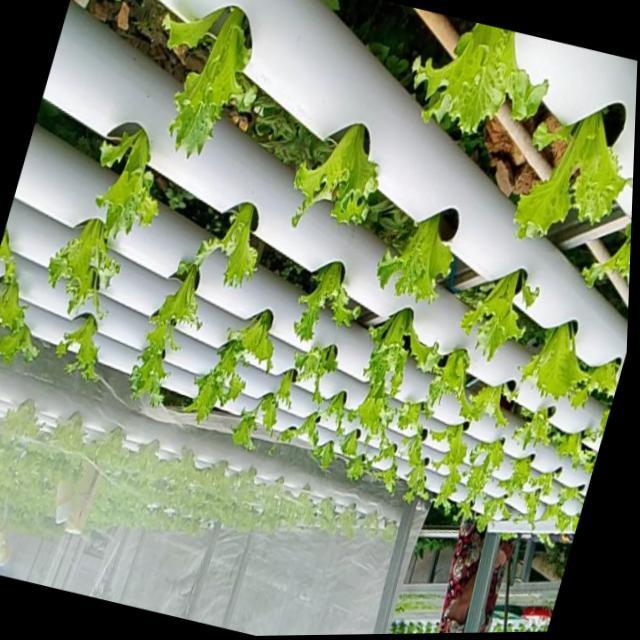Baby: (415, 25, 551, 135), (516, 115, 633, 242), (171, 8, 256, 159), (131, 257, 205, 406), (294, 124, 380, 228), (379, 209, 461, 302), (98, 129, 160, 239), (50, 220, 121, 315), (463, 270, 535, 362), (520, 324, 589, 405), (196, 203, 260, 289), (295, 262, 362, 343), (185, 341, 246, 423), (426, 344, 481, 421), (460, 440, 506, 519), (349, 380, 398, 442), (229, 310, 275, 372), (296, 345, 344, 404), (58, 315, 100, 381), (0, 262, 27, 337), (502, 458, 532, 497), (478, 498, 512, 531), (373, 438, 398, 471), (398, 403, 424, 431), (526, 491, 542, 528)
